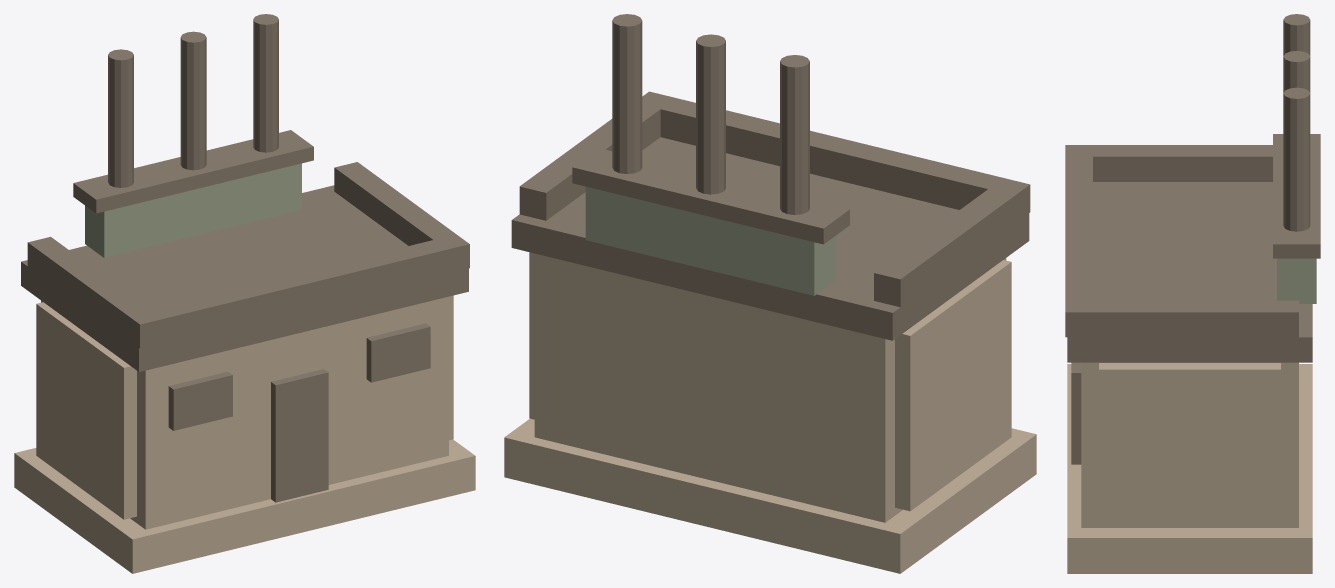
File: barracks.glb
3 views of the same model, side by side, from view 1: azimuth 30°, elevation 25°; view 2: azimuth 150°, elevation 25°; view 3: azimuth 270°, elevation 25° (orthographic). The views are drawn at different scales.
Parts seen in each view (by area): view 1: Barracks, accent_Barracks, chunk_7, accent_chunk_2, accent_chunk_1, trim_Barracks, accent_chunk_3, accent_chunk_4, accent_chunk_5, accent_chunk_6, chunk_8; view 2: Barracks, accent_Barracks, chunk_7, accent_chunk_1, trim_Barracks, accent_chunk_2, accent_chunk_3, accent_chunk_4, chunk_8; view 3: accent_Barracks, chunk_8, Barracks, accent_chunk_4, accent_chunk_3, accent_chunk_1, accent_chunk_2, trim_Barracks, accent_chunk_6.
Part boxes in pixels (box(x1,y1,x2,y2)): Barracks: box(14, 296, 475, 573); accent_Barracks: box(21, 130, 468, 502); chunk_7: box(36, 302, 136, 519); accent_chunk_2: box(126, 235, 469, 348); accent_chunk_1: box(108, 14, 278, 187); trim_Barracks: box(85, 163, 301, 257); accent_chunk_3: box(27, 236, 154, 338); accent_chunk_4: box(334, 162, 461, 245); accent_chunk_5: box(168, 371, 232, 430); accent_chunk_6: box(366, 323, 430, 382); chunk_8: box(449, 295, 453, 440); Barracks: box(504, 253, 1036, 573); accent_Barracks: box(511, 137, 1029, 340); chunk_7: box(895, 260, 1011, 511); accent_chunk_1: box(612, 14, 809, 214); trim_Barracks: box(585, 186, 836, 295); accent_chunk_2: box(642, 91, 1030, 218); accent_chunk_3: box(874, 189, 1021, 307); accent_chunk_4: box(519, 99, 666, 220); chunk_8: box(529, 252, 534, 419); accent_Barracks: box(1067, 134, 1320, 464); chunk_8: box(1099, 363, 1280, 527); Barracks: box(1067, 362, 1312, 573); accent_chunk_4: box(1081, 300, 1298, 337); accent_chunk_3: box(1081, 145, 1272, 181); accent_chunk_1: box(1283, 14, 1310, 231); accent_chunk_2: box(1065, 145, 1092, 337); trim_Barracks: box(1277, 258, 1316, 303); accent_chunk_6: box(1071, 362, 1081, 415).
Size of the model in its own units: 1.04 by 1.2 by 0.645.
